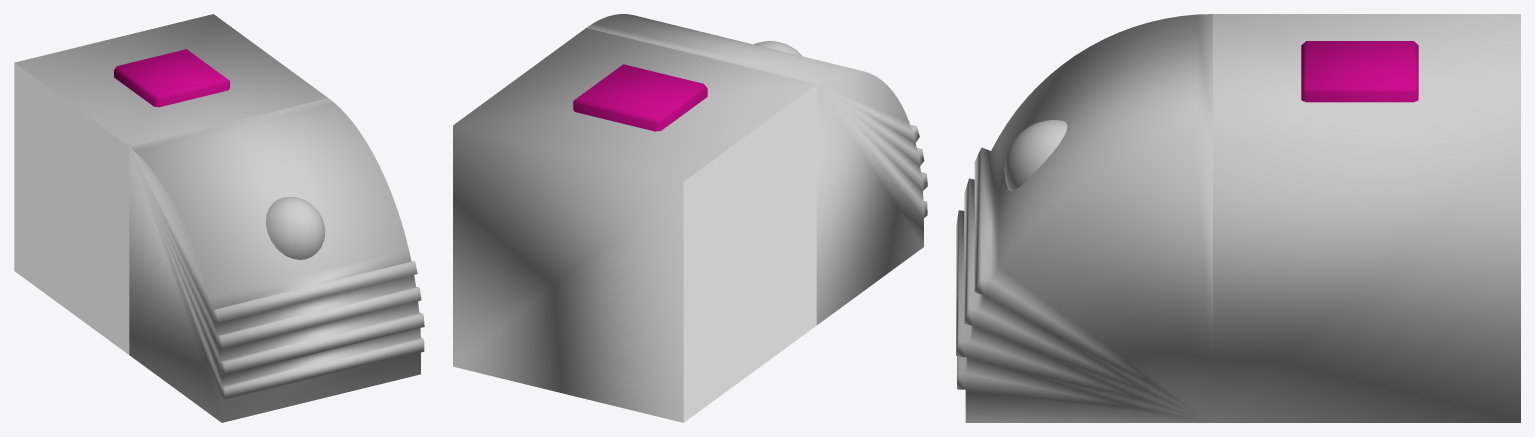
Rendered from Autopilot-Block_Large_LOD3.fbx.
3 views of the same model, side by side, from view 1: azimuth 30°, elevation 25°; view 2: azimuth 150°, elevation 25°; view 3: azimuth 270°, elevation 25° (orthographic). The views are drawn at different scales.
Parts seen in each view (by area): view 1: Cube.003, Cube.002, Sphere.001; view 2: Cube.003, Cube.002; view 3: Cube.003, Cube.002, Sphere.001.
Part boxes in pixels (x1,y1,x2,y2): Cube.003: [14, 14, 424, 422]; Cube.002: [114, 49, 229, 107]; Sphere.001: [266, 197, 325, 259]; Cube.003: [453, 14, 927, 422]; Cube.002: [573, 64, 707, 131]; Cube.003: [956, 14, 1520, 422]; Cube.002: [1301, 41, 1418, 102]; Sphere.001: [1004, 120, 1067, 191].
Size of the model in its own units: 2.5 by 2.63 by 4.59.
